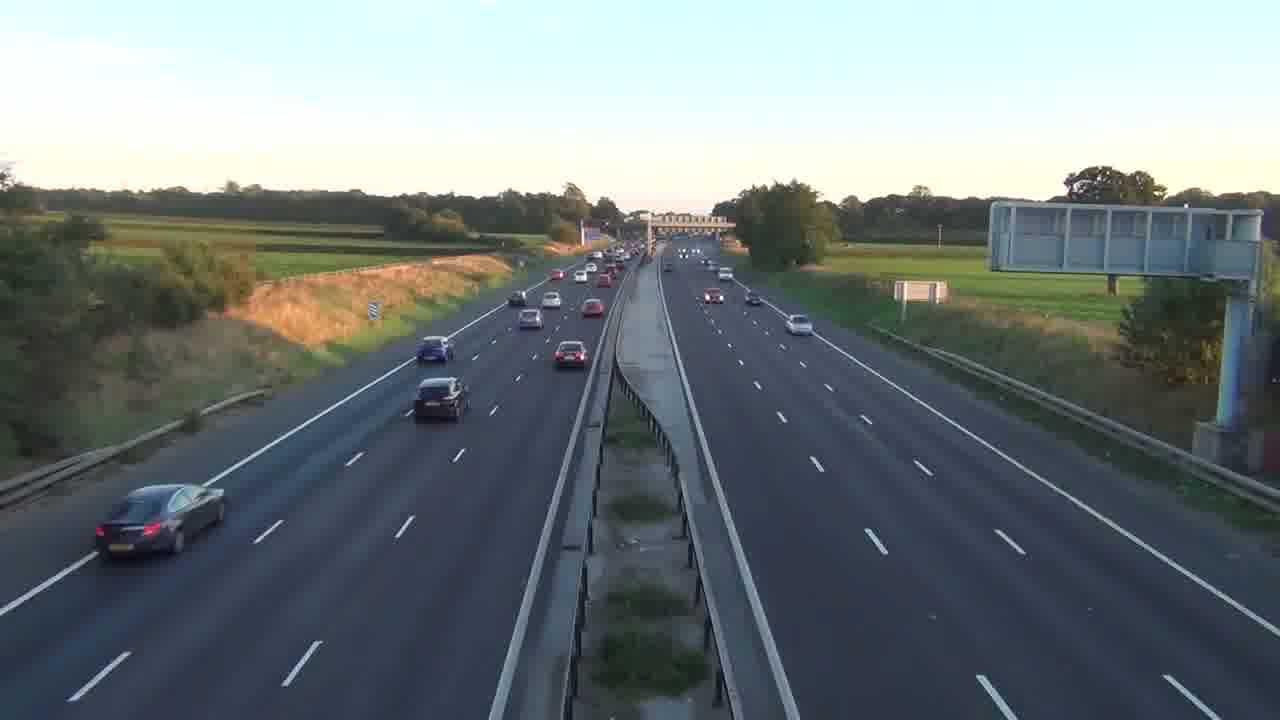car: (94, 483, 226, 562), (413, 375, 469, 421), (552, 339, 588, 369), (415, 337, 448, 365), (785, 313, 814, 336), (517, 307, 543, 329), (580, 298, 605, 319)
